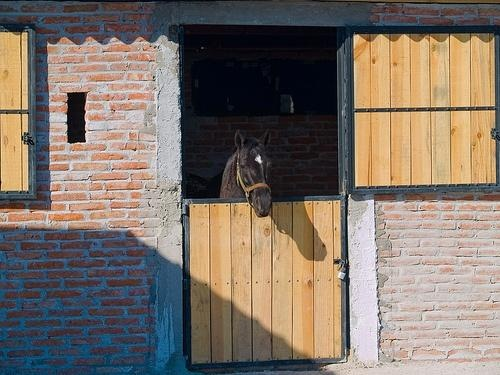horse: (182, 128, 274, 218)
